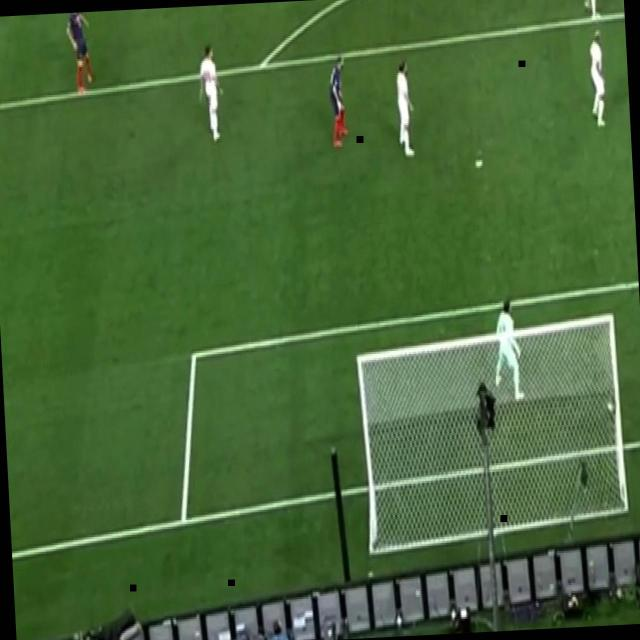player-white: (489, 297, 528, 405), (195, 40, 227, 146), (63, 12, 97, 100), (392, 56, 419, 162), (325, 53, 351, 153), (586, 27, 610, 131), (580, 0, 604, 24)
